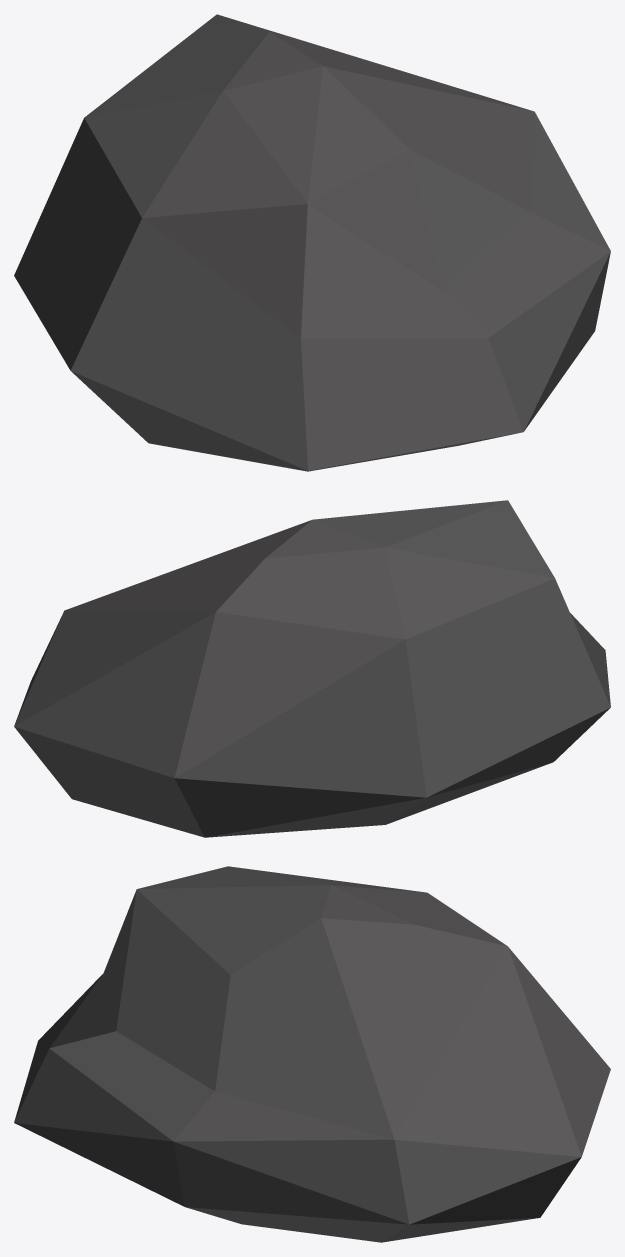
File: Rock_4.fbx
3 renders of one model, top to bottom at view 1: azimuth 30°, elevation 25°; view 2: azimuth 150°, elevation 25°; view 3: azimuth 270°, elevation 25°, orthographic. The views are drawn at different scales.
Parts seen in each view (by area): view 1: Rock_4; view 2: Rock_4; view 3: Rock_4.
Part boxes in pixels (box(x1,y1,x2,y2)): Rock_4: box(14, 14, 610, 471); Rock_4: box(14, 500, 610, 837); Rock_4: box(14, 866, 610, 1242).
Size of the model in its own units: 27.6 by 13.67 by 28.72.
